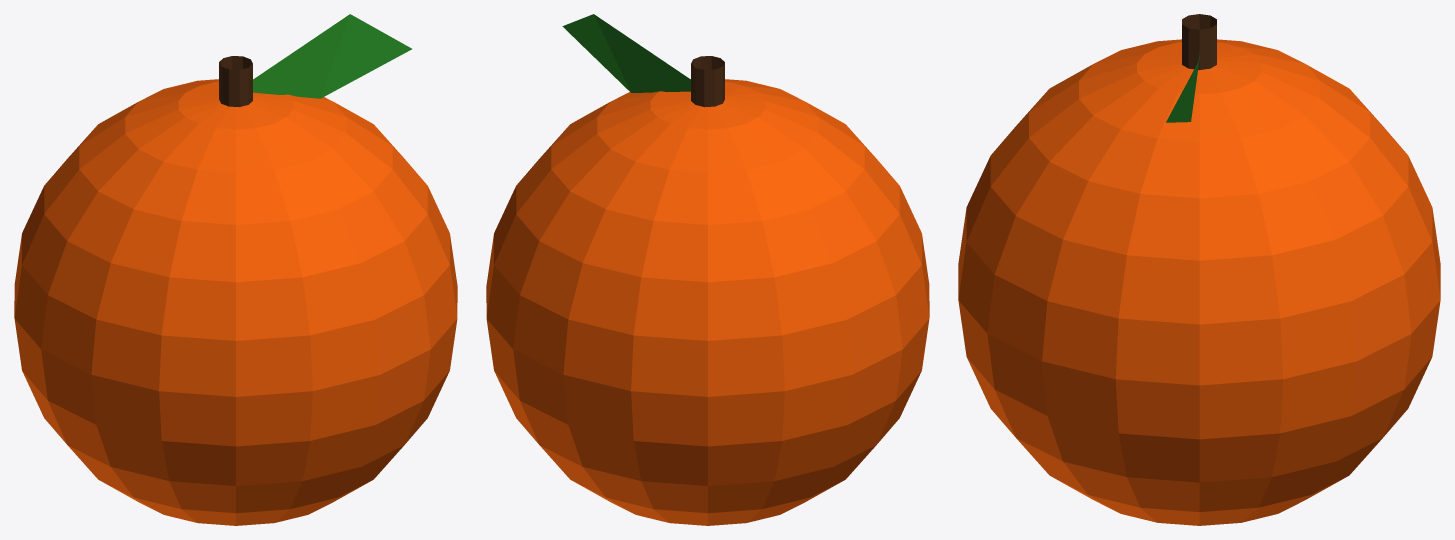
Rendered from orange.obj.
3 renders of one model, left to right at view 1: azimuth 30°, elevation 25°; view 2: azimuth 150°, elevation 25°; view 3: azimuth 270°, elevation 25°, orthographic. The views are drawn at different scales.
Parts seen in each view (by area): view 1: orange_body, leaf, stem; view 2: orange_body, leaf, stem; view 3: orange_body, stem, leaf.
Part boxes in pixels (x1,y1,x2,y2): orange_body: [14, 79, 457, 525]; leaf: [253, 14, 411, 98]; stem: [219, 56, 252, 107]; orange_body: [486, 79, 929, 525]; leaf: [562, 14, 690, 92]; stem: [691, 56, 724, 107]; orange_body: [958, 39, 1440, 525]; stem: [1182, 14, 1216, 69]; leaf: [1166, 53, 1199, 122].
Bounding box in the file's own units: 0.58 × 0.66 × 0.5712.
